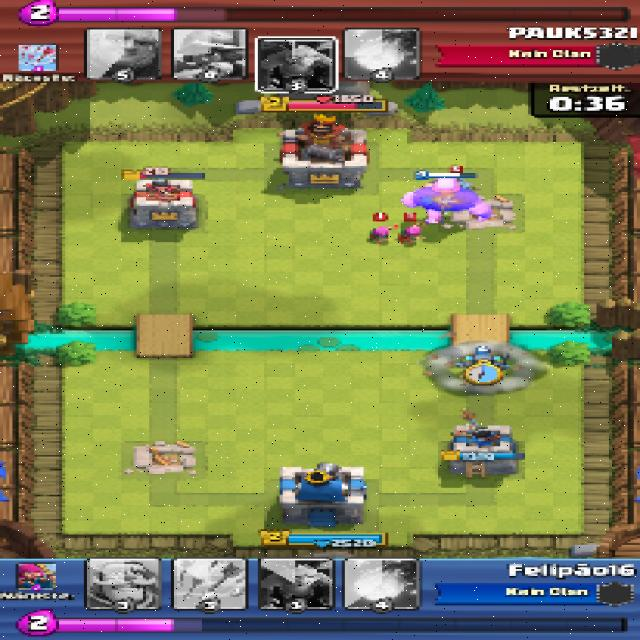Enemy-Archer: (399, 225, 423, 246), (366, 226, 394, 243)
Player-Giant: (396, 178, 491, 223)
Player-MiniPEKKA: (458, 350, 514, 372)
